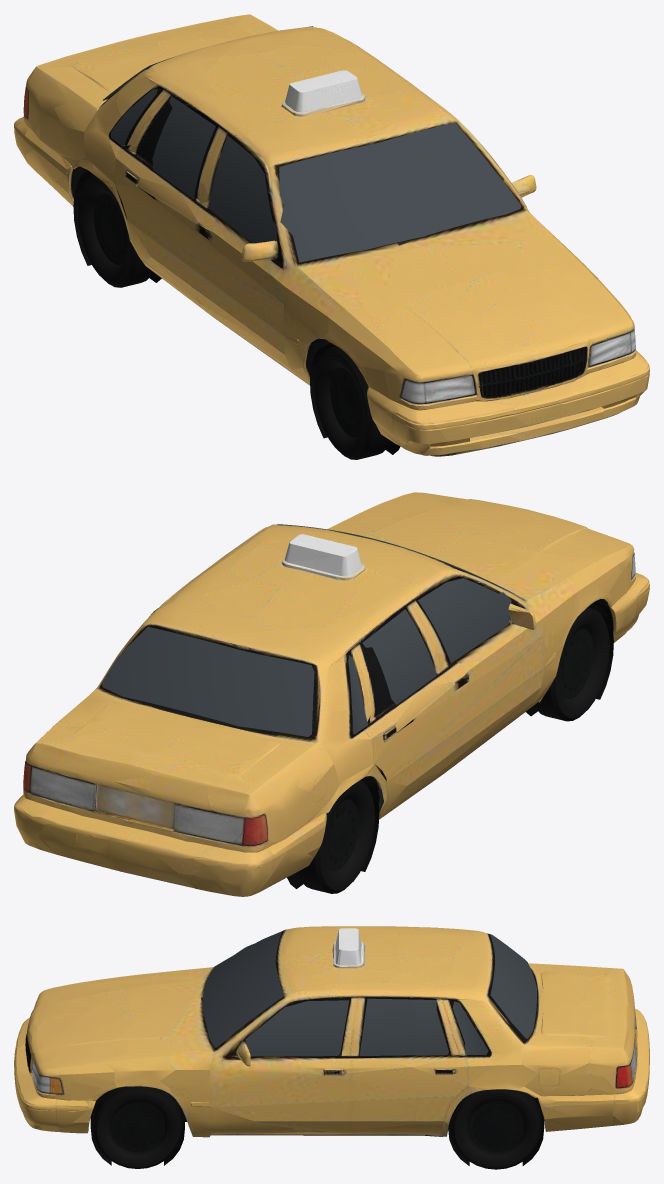
Rendered from taxi.glb.
3 views of the same model, one above another, from view 1: azimuth 30°, elevation 25°; view 2: azimuth 150°, elevation 25°; view 3: azimuth 270°, elevation 25° (orthographic). The views are drawn at different scales.
Visible parts, largest first — view 1: body, glass, wheel_fr, wheel_rr; view 2: body, glass, wheel_rr, wheel_fr; view 3: body, glass, wheel_fl, wheel_rl.
Part boxes in pixels (<box>): body: <box>14,14,649,456</box>; glass: <box>103,26,521,262</box>; wheel_fr: <box>314,346,390,459</box>; wheel_rr: <box>77,173,152,287</box>; body: <box>14,492,649,896</box>; glass: <box>101,524,519,736</box>; wheel_rr: <box>297,780,375,893</box>; wheel_fr: <box>534,607,609,721</box>; body: <box>14,926,649,1165</box>; glass: <box>202,931,536,1056</box>; wheel_fl: <box>93,1086,181,1168</box>; wheel_rl: <box>451,1089,541,1169</box>.
Size of the model in its own units: 2.11 by 1.68 by 5.2.
3 materials, 2 textured.
